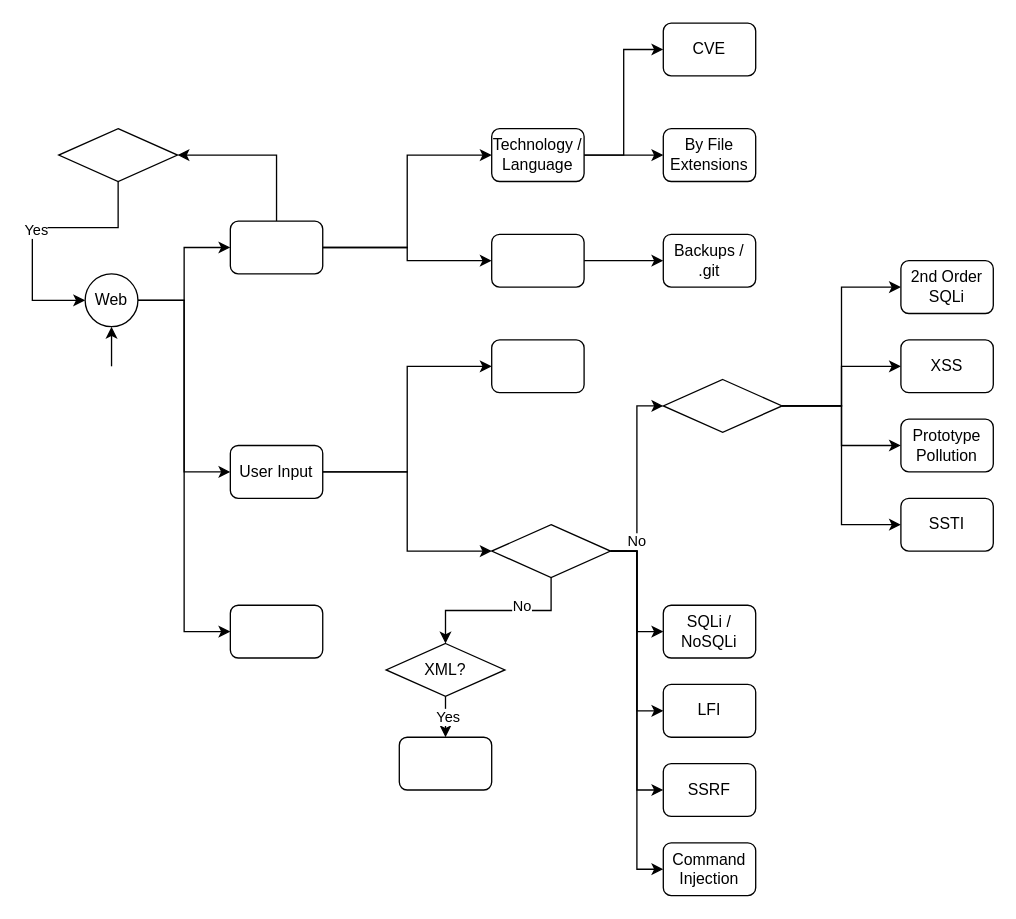
This 1016x919 diagram has some shape labels left out. Each missing label, with the centre of its shape:
Enumeration: (x=276, y=247)
Files / Directories: (x=537, y=260)
IDOR: (x=276, y=631)
Mass Assignment: (x=537, y=366)
Sanitized?: (x=550, y=550)
Stored / Reflected?: (x=722, y=405)
Subdomain?: (x=117, y=154)
XXE: (x=445, y=763)
